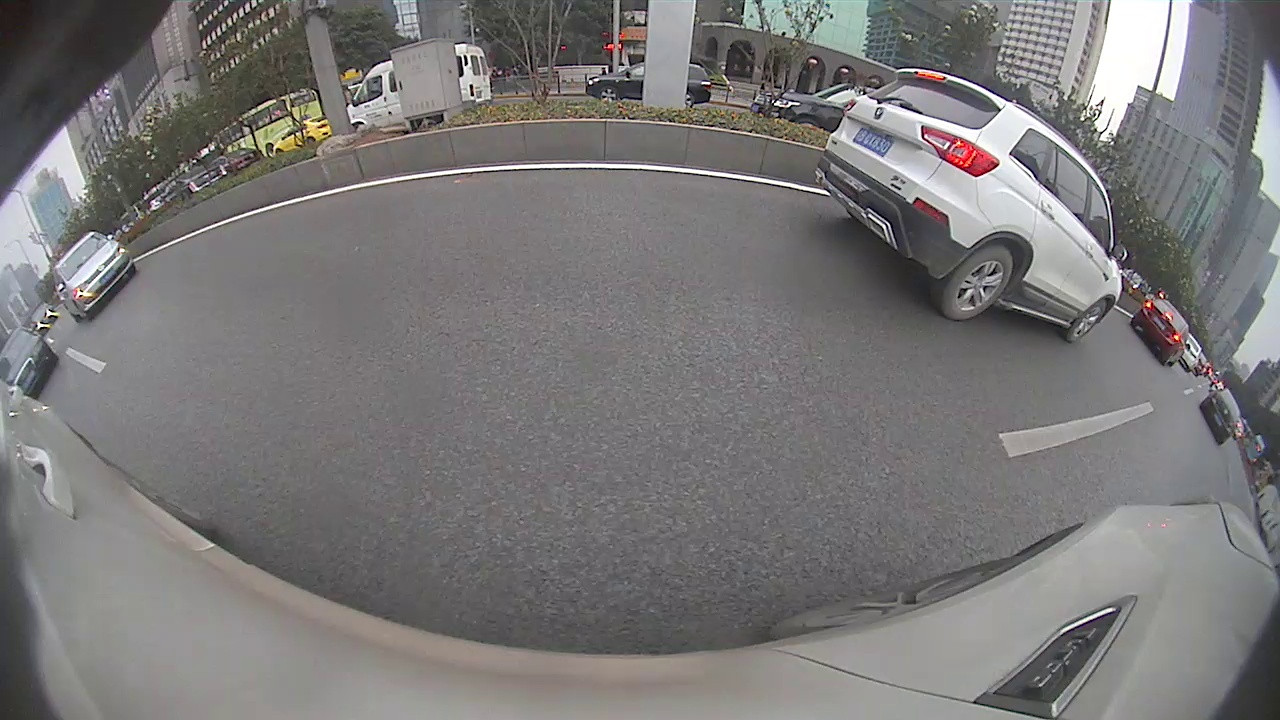bus: (71, 187, 319, 289), (643, 142, 680, 177)
car: (1, 261, 257, 493), (864, 165, 1071, 272), (1194, 327, 1279, 427), (834, 165, 923, 203), (731, 152, 786, 188), (810, 162, 865, 191), (700, 157, 736, 180), (613, 161, 631, 176)
front: (146, 308, 227, 401), (1219, 364, 1263, 421), (871, 195, 893, 224), (839, 187, 851, 204)
rear: (968, 219, 1000, 260)
